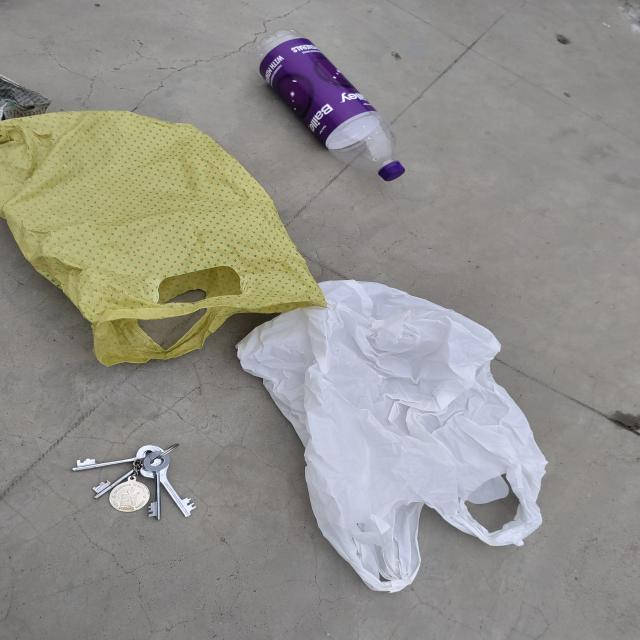metal: (50, 442, 244, 550)
plastic: (272, 317, 588, 589), (4, 111, 261, 352), (251, 23, 466, 200)
